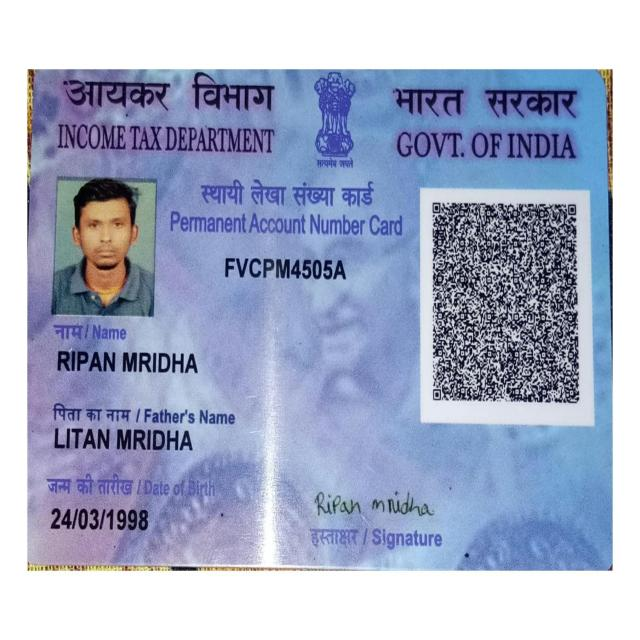pan_card: (29, 68, 611, 563)
